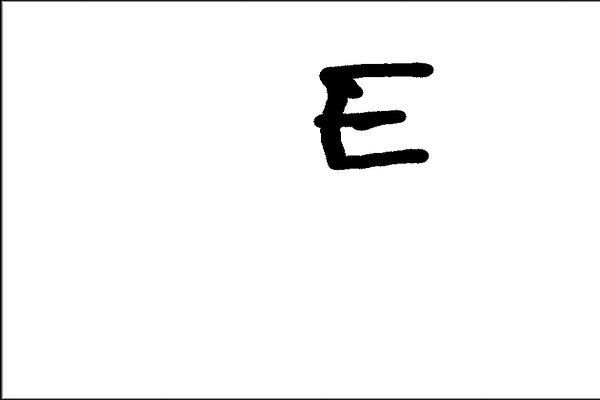E: (304, 57, 440, 173)
